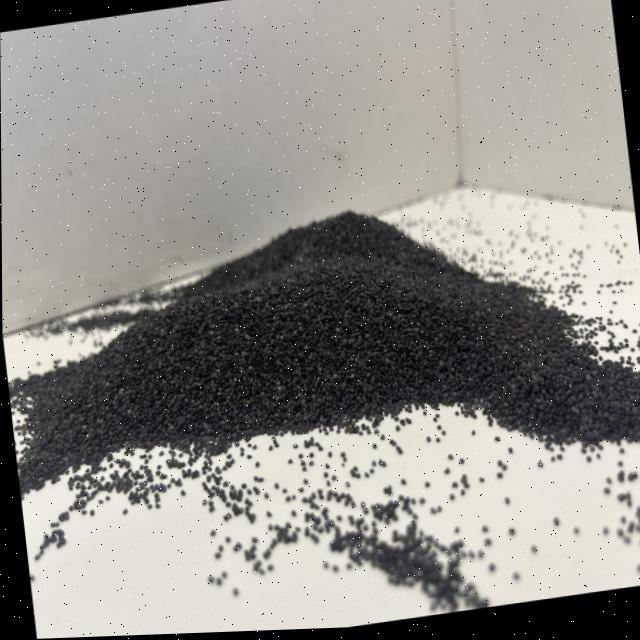Poppy Seeds: (1, 152, 634, 505)
